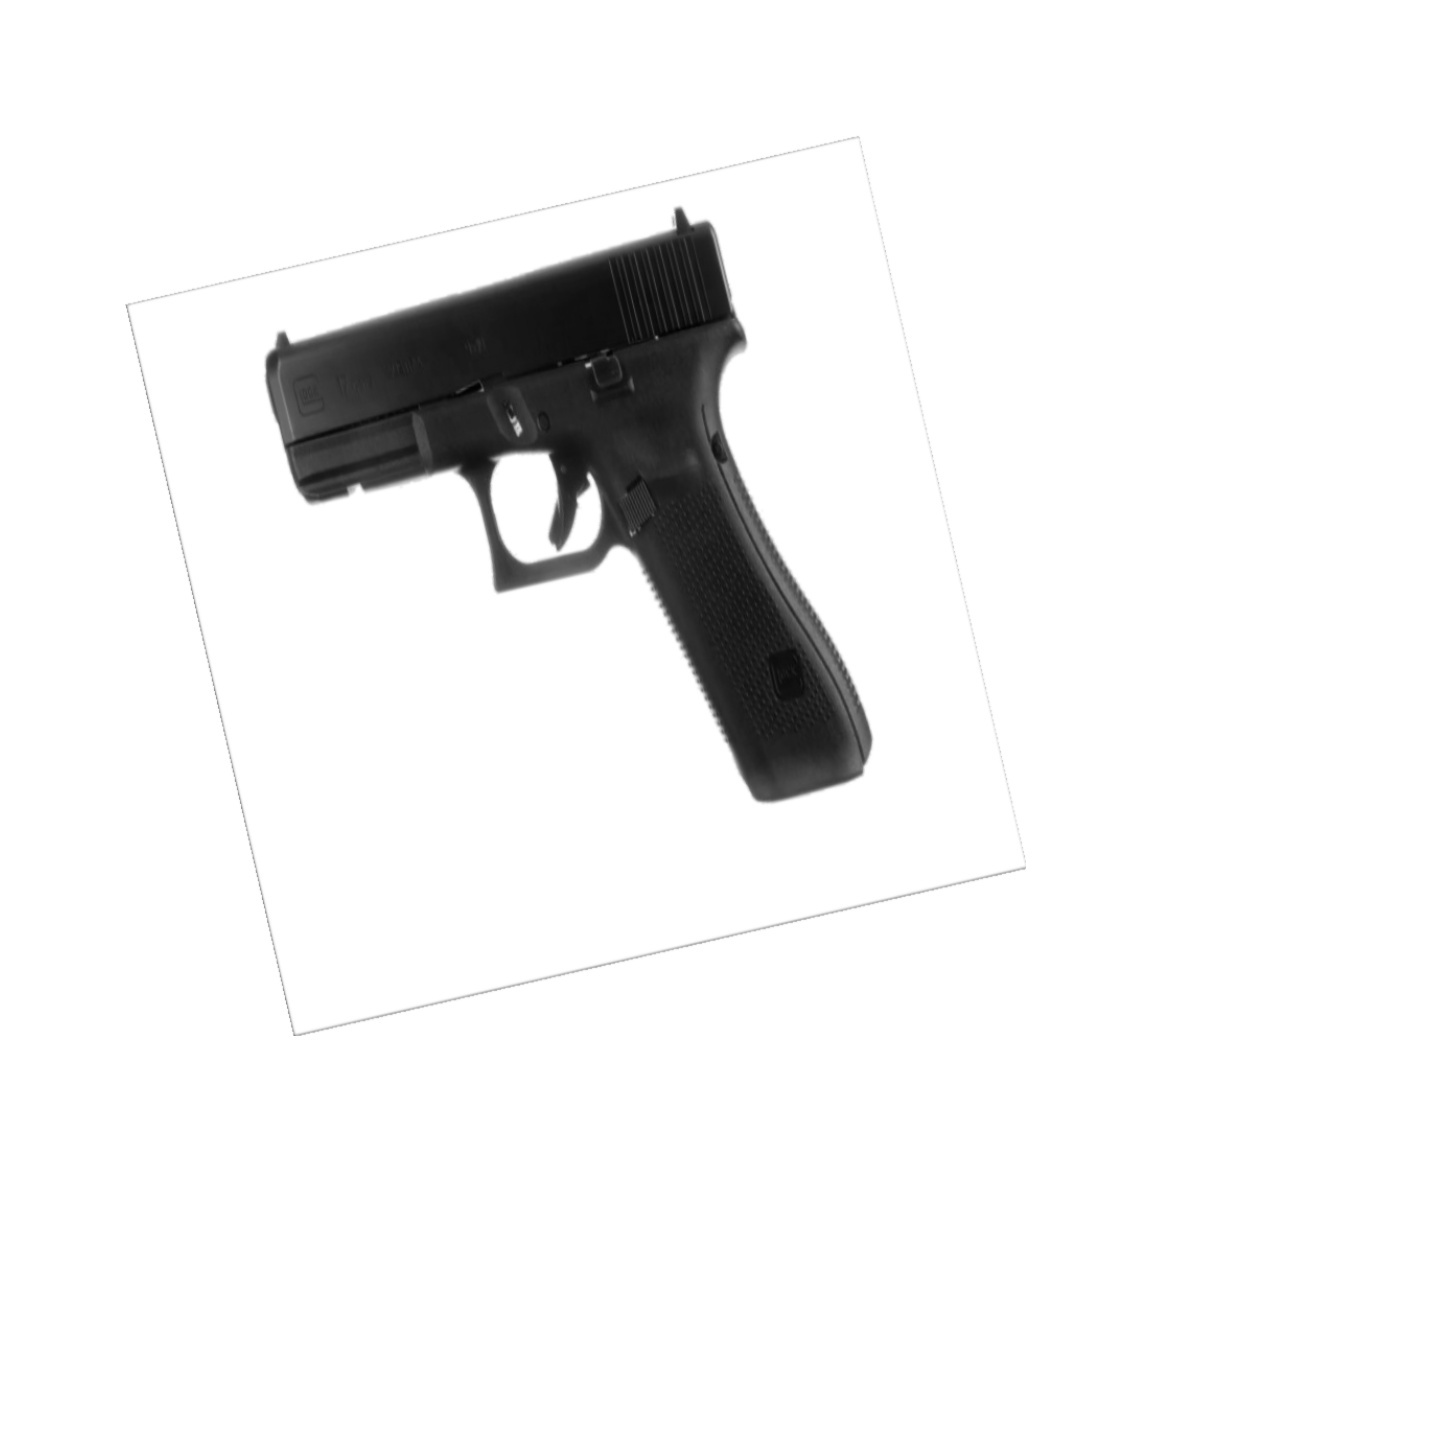gun: (237, 201, 911, 840)
